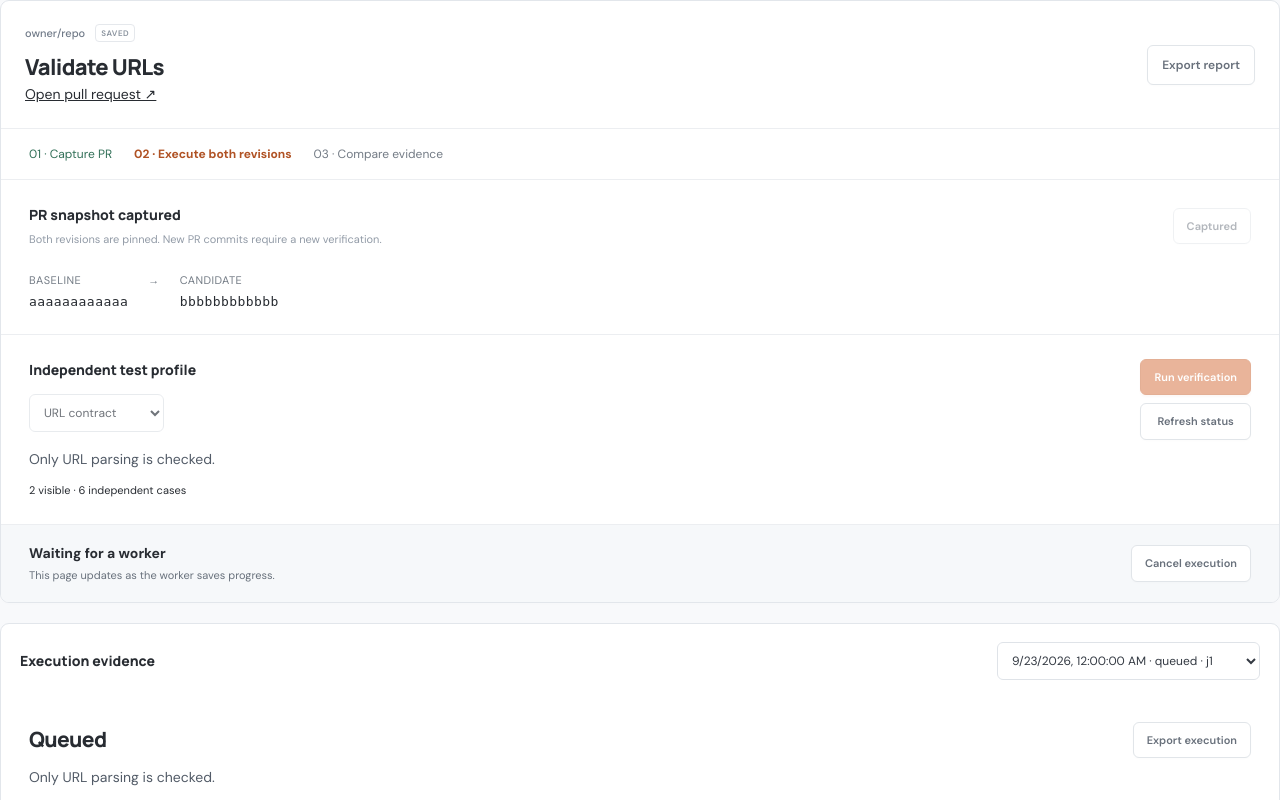
Test: cancels the active execution and does not issue a passing verdict
Click the button "Cancel execution".
click(1191, 564)  # box x1=1131 y1=545 x2=1251 y2=582
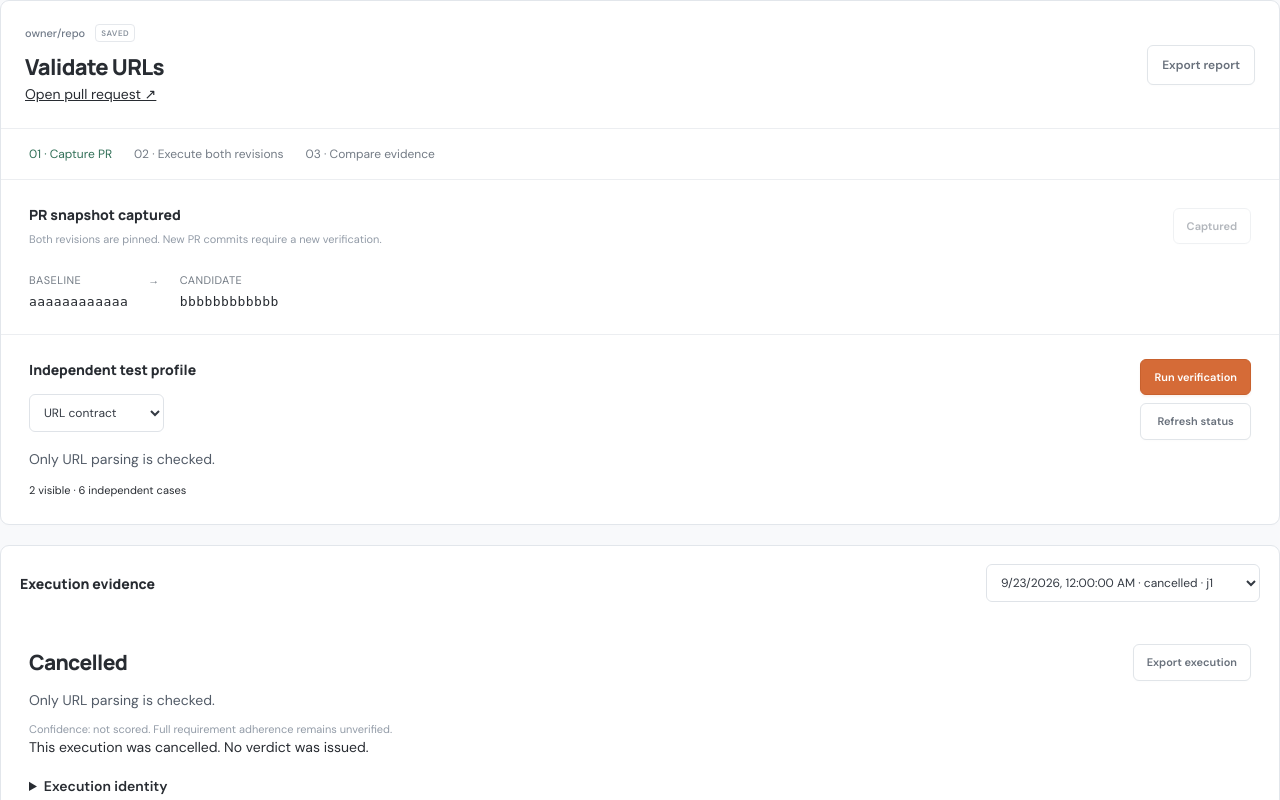
Check: the text "This execution was cancelled. No verdict was issued." is shown, box x1=29 y1=738 x2=369 y2=756
Check: the button "Cancel execution" is gone
